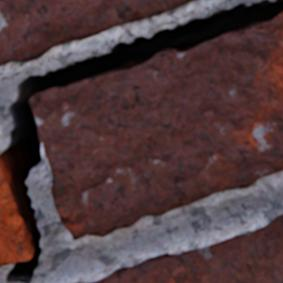brick: (29, 12, 282, 238), (74, 214, 282, 282), (0, 0, 193, 65), (0, 160, 33, 266)
crack: (0, 0, 282, 282)
